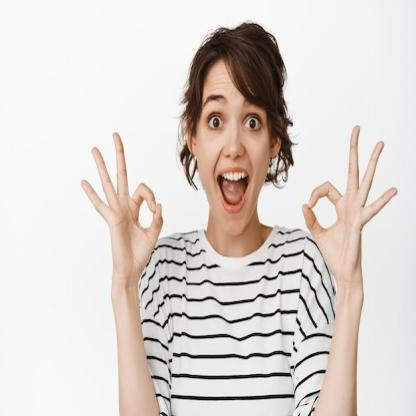ok: (300, 120, 400, 280), (79, 129, 166, 290)
